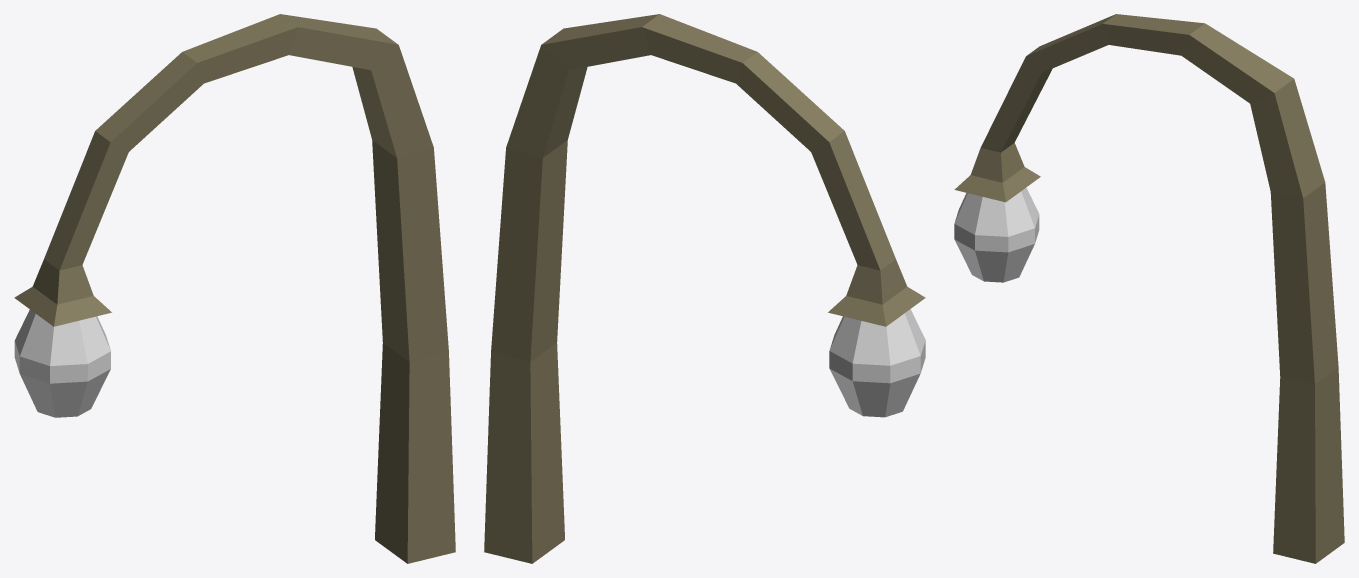
File: Cave Plant 2.fbx
The picture shows the model from 3 angles, left to right: view 1: azimuth 30°, elevation 25°; view 2: azimuth 150°, elevation 25°; view 3: azimuth 330°, elevation 25°; orthographic projection. The views are drawn at different scales.
Parts seen in each view (by area): view 1: Cube, Cube.001; view 2: Cube, Cube.001; view 3: Cube, Cube.001.
Part boxes in pixels (x1,y1,x2,y2): Cube: (14,14,455,563); Cube.001: (14,309,110,417); Cube: (484,14,925,563); Cube.001: (829,309,925,417); Cube: (954,14,1344,563); Cube.001: (954,187,1039,282).
Bounding box in the file's own units: 81.04 × 103 × 16.66.
